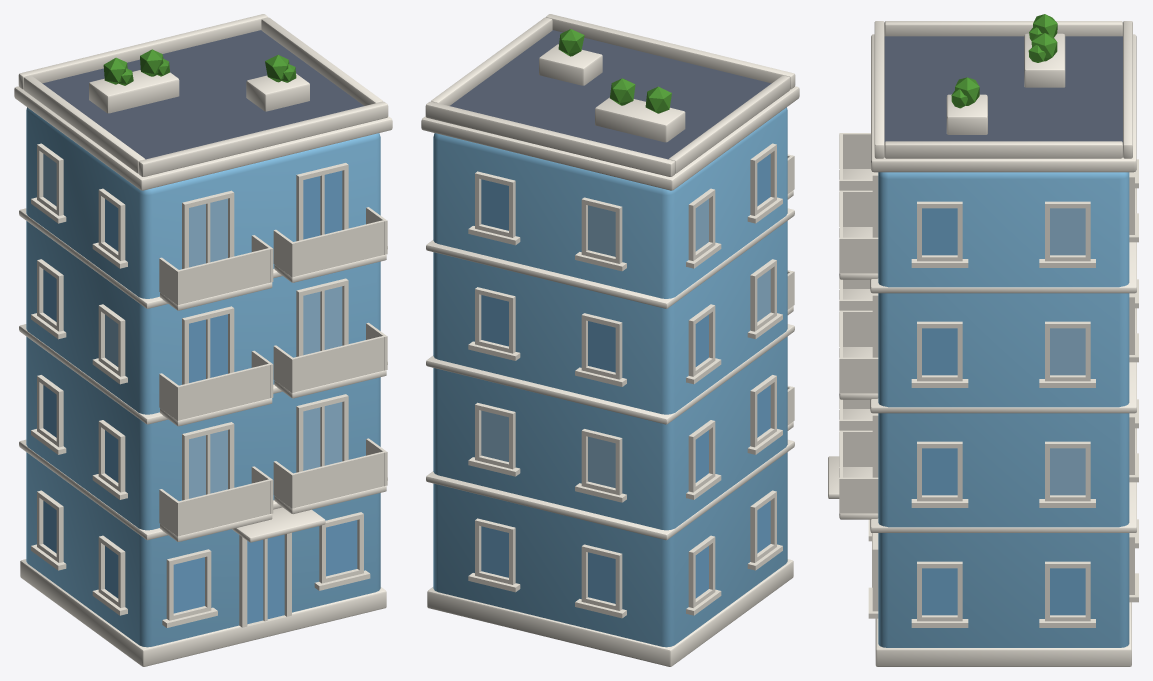
The model's file is building_apartments.glb.
3 renders of one model, left to right at view 1: azimuth 30°, elevation 25°; view 2: azimuth 150°, elevation 25°; view 3: azimuth 270°, elevation 25°, orthographic. The views are drawn at different scales.
Parts seen in each view (by area): view 1: building; view 2: building; view 3: building.
Boxes of the visible parts, <box> form: building: <box>14,14,392,666</box>; building: <box>421,14,799,666</box>; building: <box>828,14,1138,666</box>.
Bounding box in the file's own units: 6.72 × 13.48 × 6.81.
